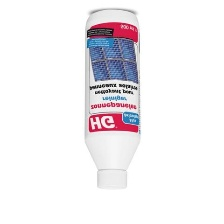cleaning_solution: (78, 7, 143, 191)
